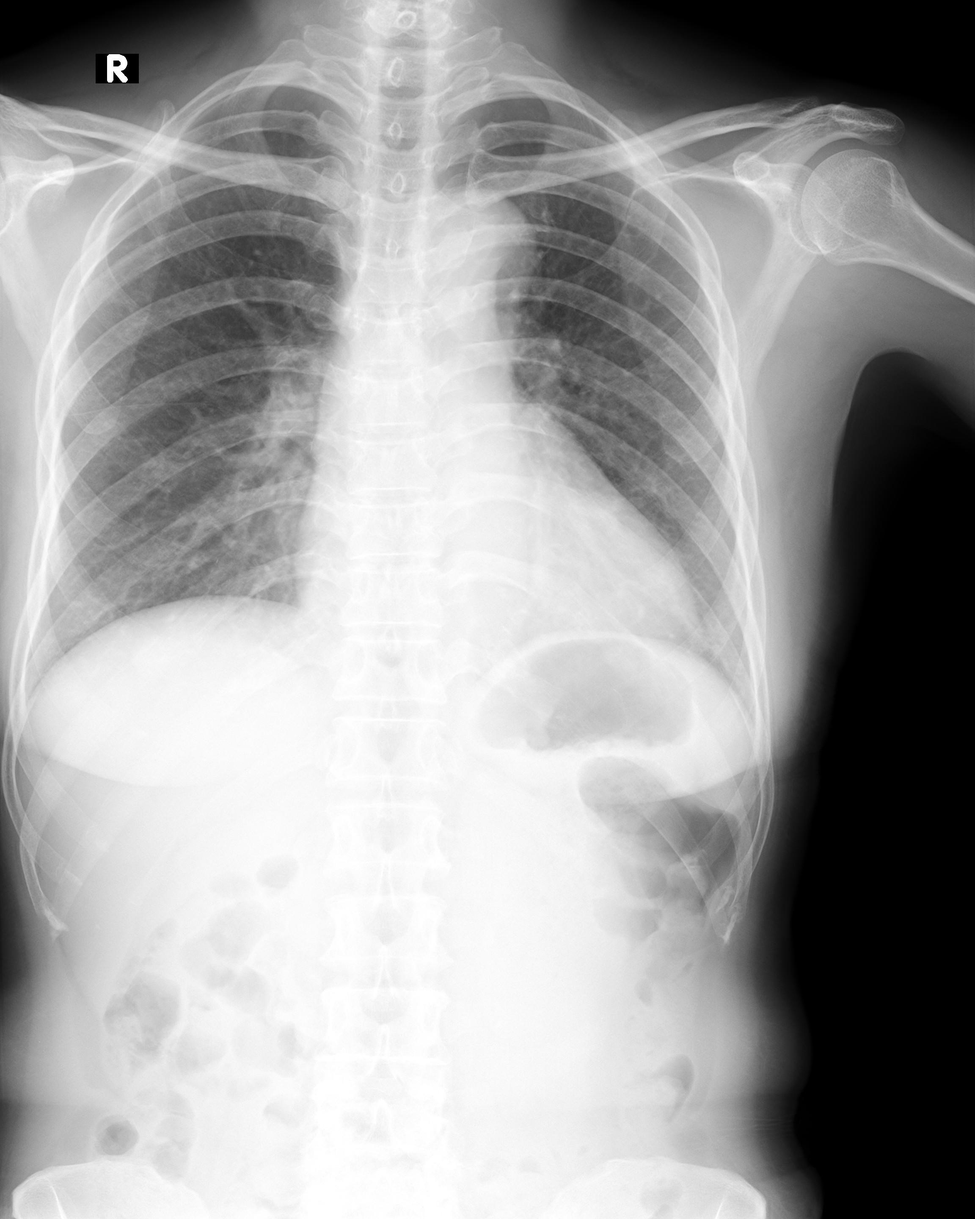Aortic enlargement: (396, 183, 537, 332)
Cardiomegaly: (282, 531, 704, 673)
